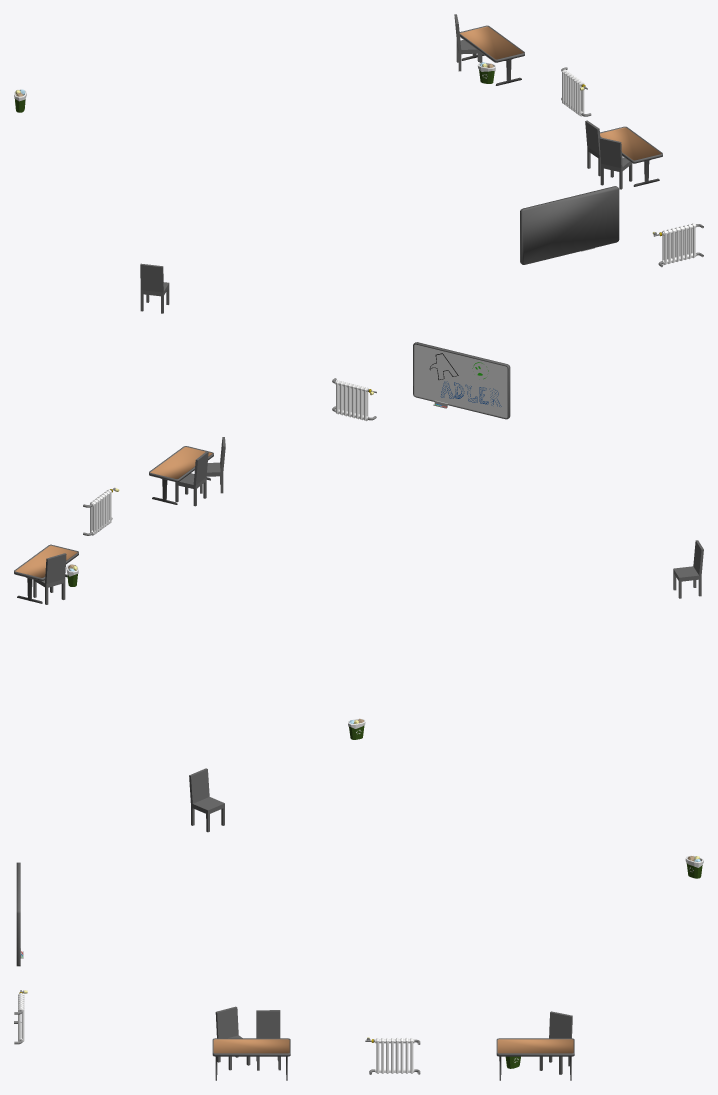
Rendered from dDShape Sampleroom - Deko.glb.
3 views of the same model, one above another, from view 1: azimuth 30°, elevation 25°; view 2: azimuth 150°, elevation 25°; view 3: azimuth 270°, elevation 25° (orthographic). The views are drawn at different scales.
Visible parts, largest first — view 1: D-Room Deko Campus; view 2: D-Room Deko Campus; view 3: D-Room Deko Campus.
Part boxes in pixels (box(x1,y1,x2,y2)): D-Room Deko Campus: box(14, 14, 703, 313); D-Room Deko Campus: box(14, 342, 703, 739); D-Room Deko Campus: box(14, 768, 703, 1080).
Bounding box in the file's own units: 13.36 × 2.36 × 14.61.
Materials: 1 (1 with a texture image).
